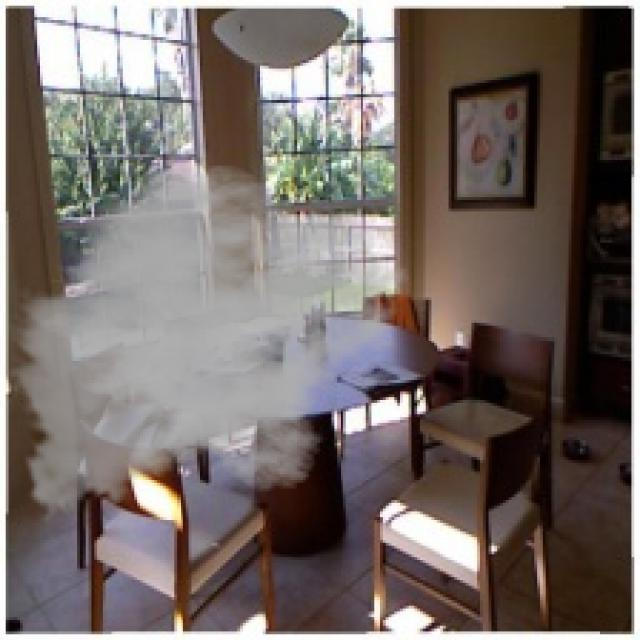Smoke: (2, 162, 412, 528)
